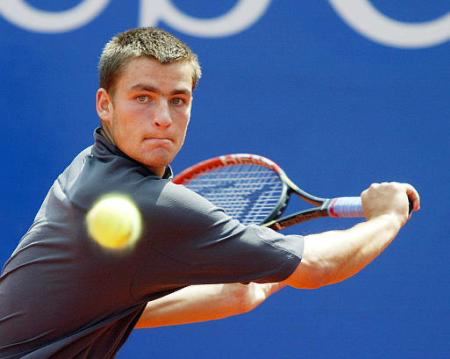Face: (110, 56, 196, 168)
